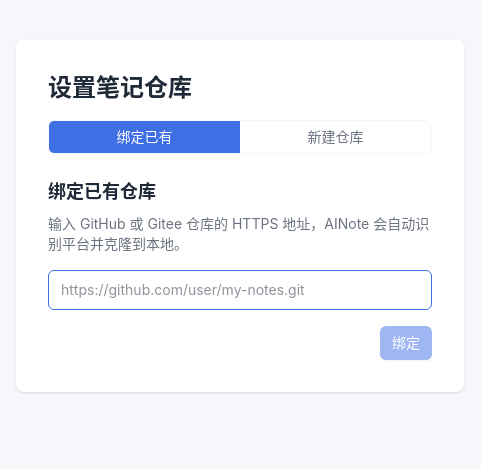
Test case: SetupPage 建仓缺少平台账号 › 新建仓库缺少 GitHub 账号时同样给出登录入口
Click the button "新建仓库" at (336, 137), box [240,121,431,153]
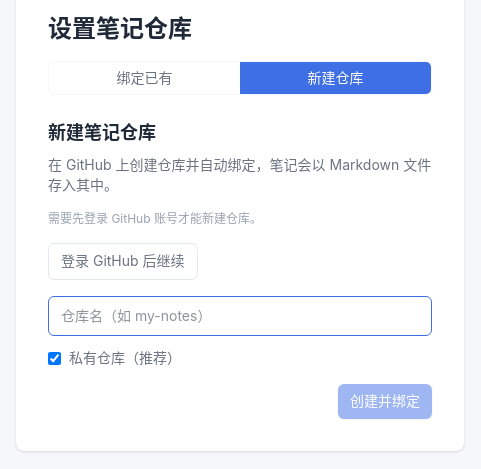
Click the button "登录 GitHub 后继续" at (123, 262), box [48,243,198,280]
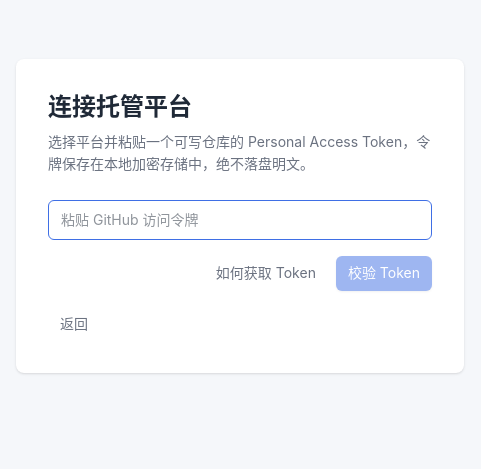
Check: the password field with placeholder "粘贴 GitHub 访问令牌" is shown, box [48,200,432,240]
